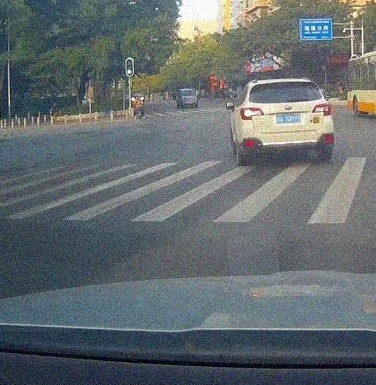L_light: (239, 107, 265, 120)
R_light: (311, 103, 331, 116)
T_light: (283, 82, 291, 84)
day-left: (238, 76, 335, 167)
